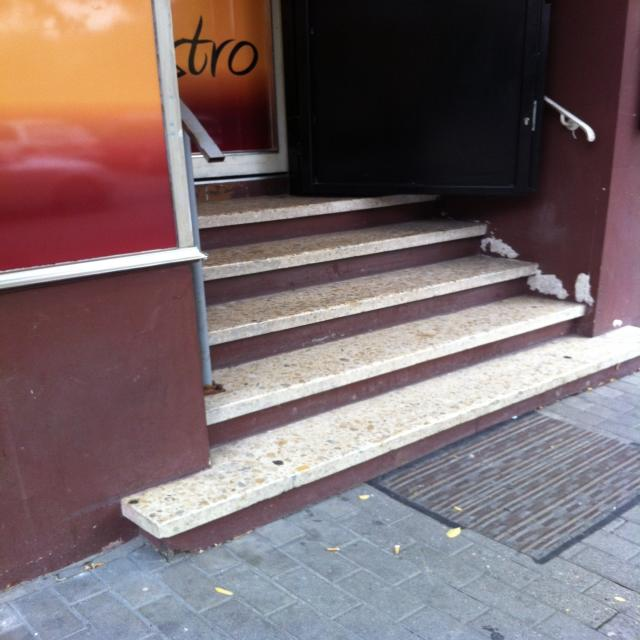AVOID: (186, 188, 640, 554)
